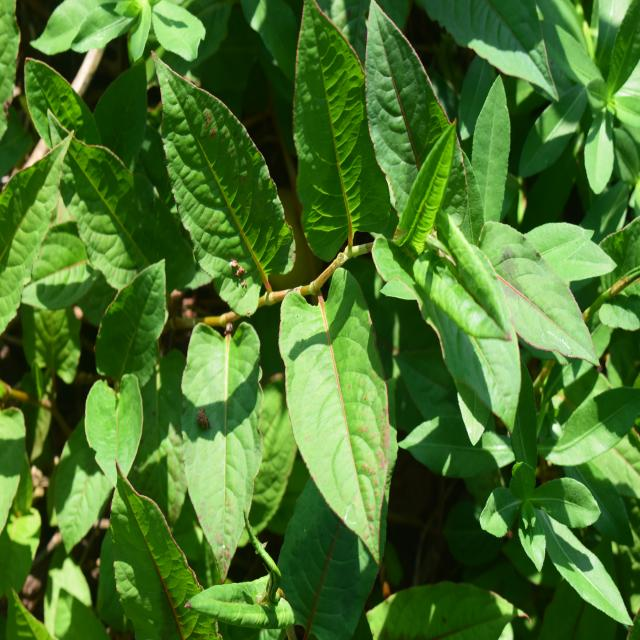Chinese_knotweed: (107, 44, 396, 526)
